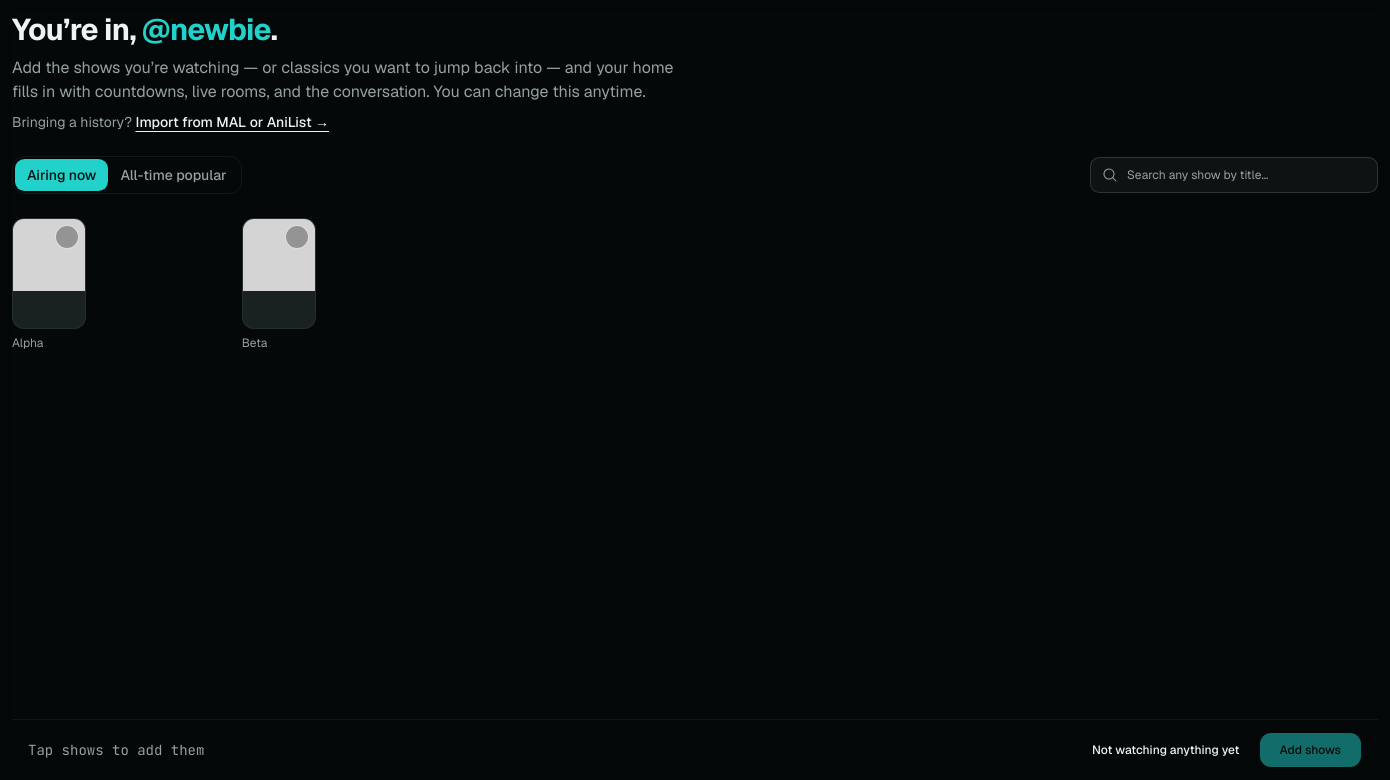
Test: Onboarding › toggles picks and reflects the count in the finish button
Check: the button "Add shows" is disabled, box [1258,732,1362,768]
Step 1. Click the button "Alpha" → (121, 285), box [12,218,230,352]
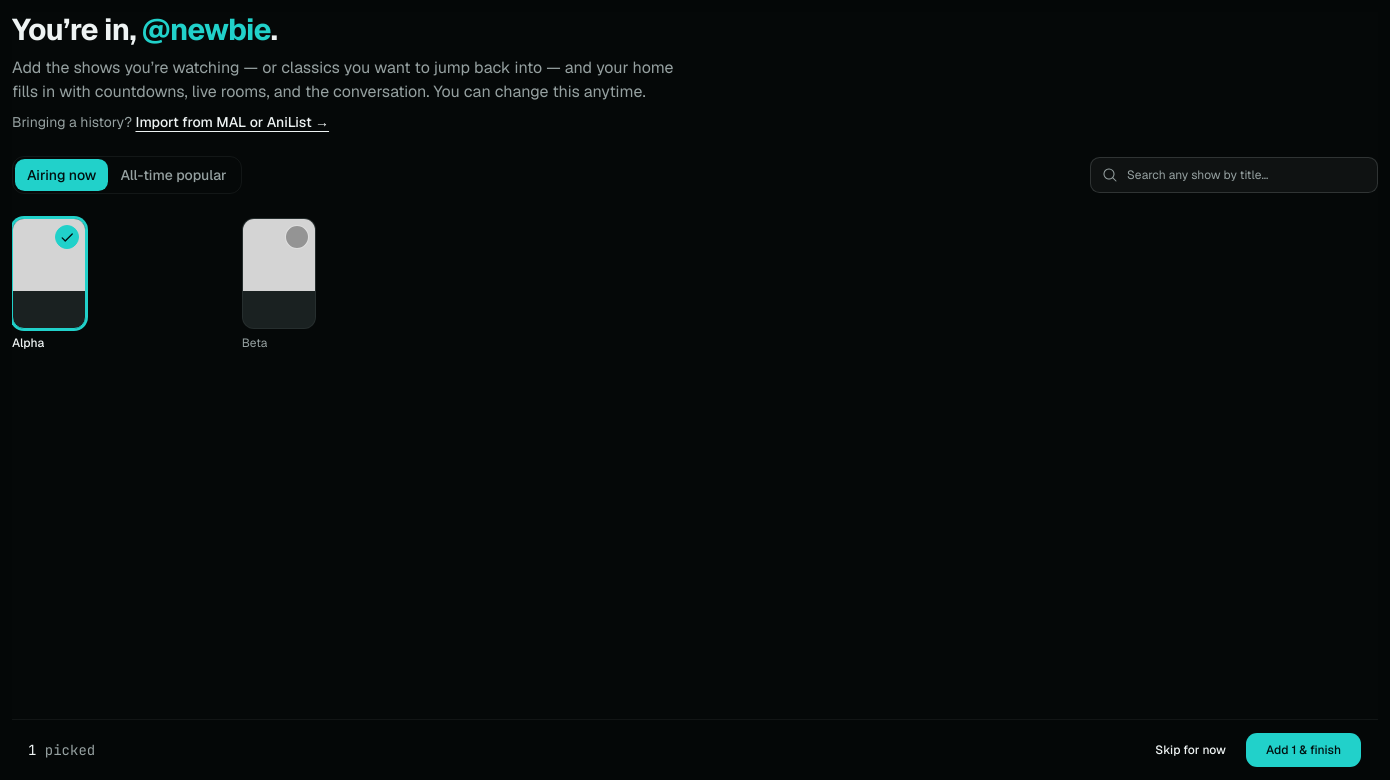
Check: the button "Add 1 & finish" is enabled, box [1245,732,1362,768]
Step 2. Click the button "Beta" → (351, 285), box [242,218,459,352]
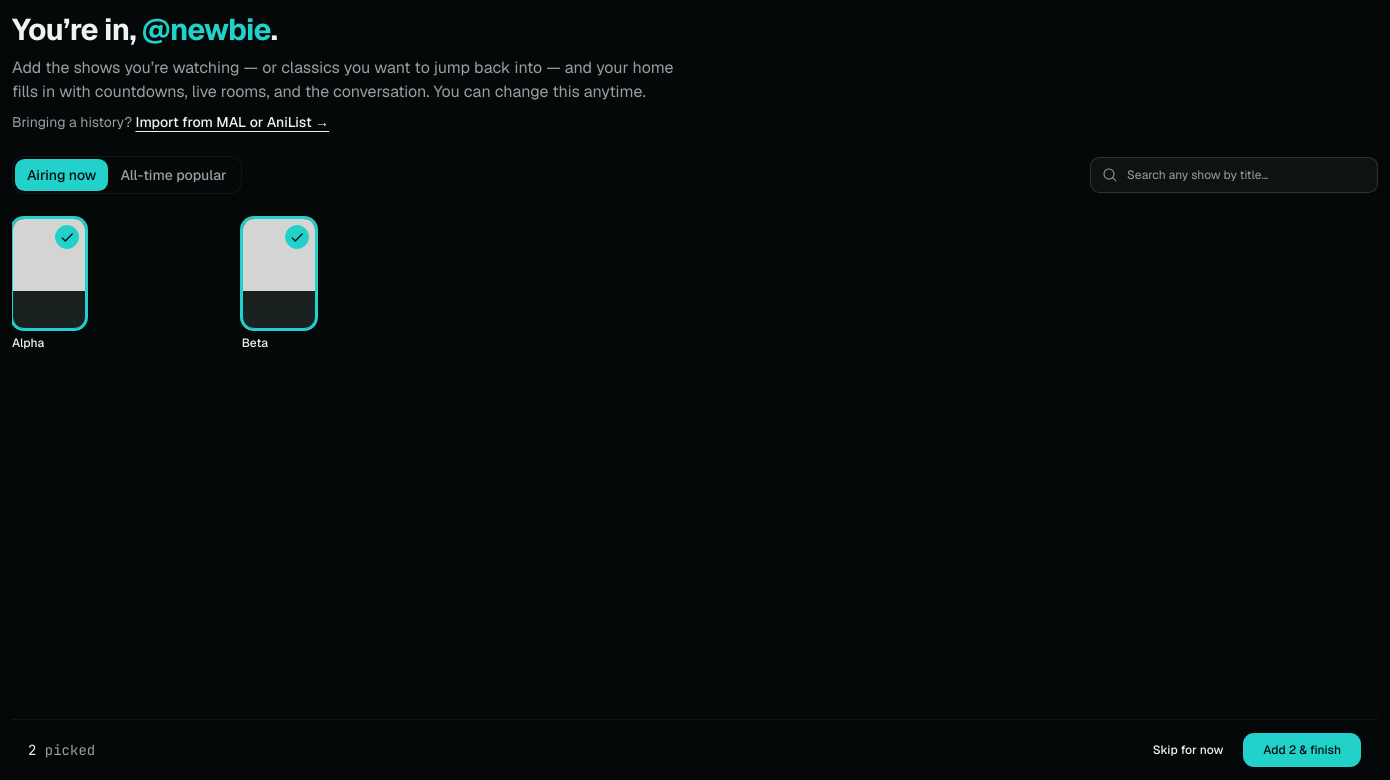
Check: the button "Add 2 & finish" is shown, box [1242,732,1362,768]
Step 3. Click the button "Beta" → (351, 285), box [242,218,459,352]
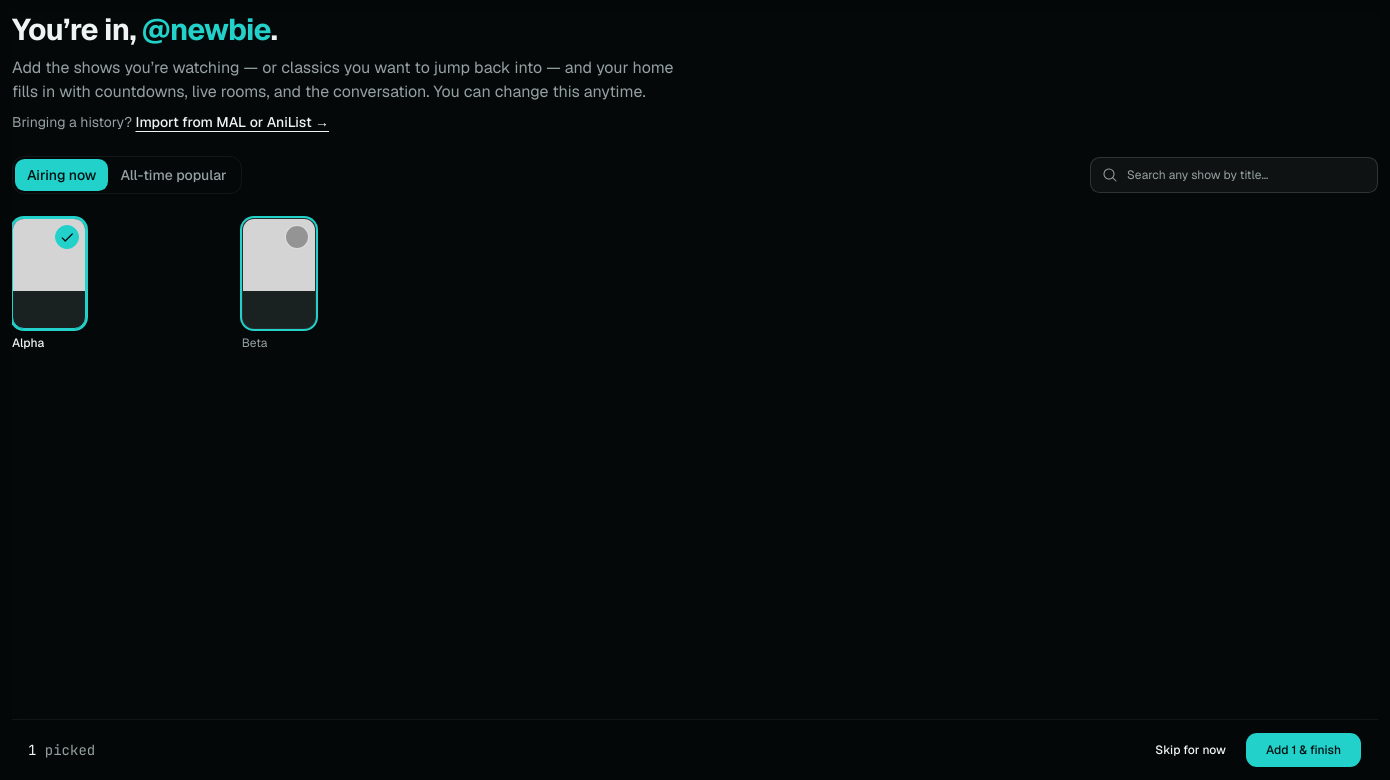
Check: the button "Add 1 & finish" is shown, box [1245,732,1362,768]
